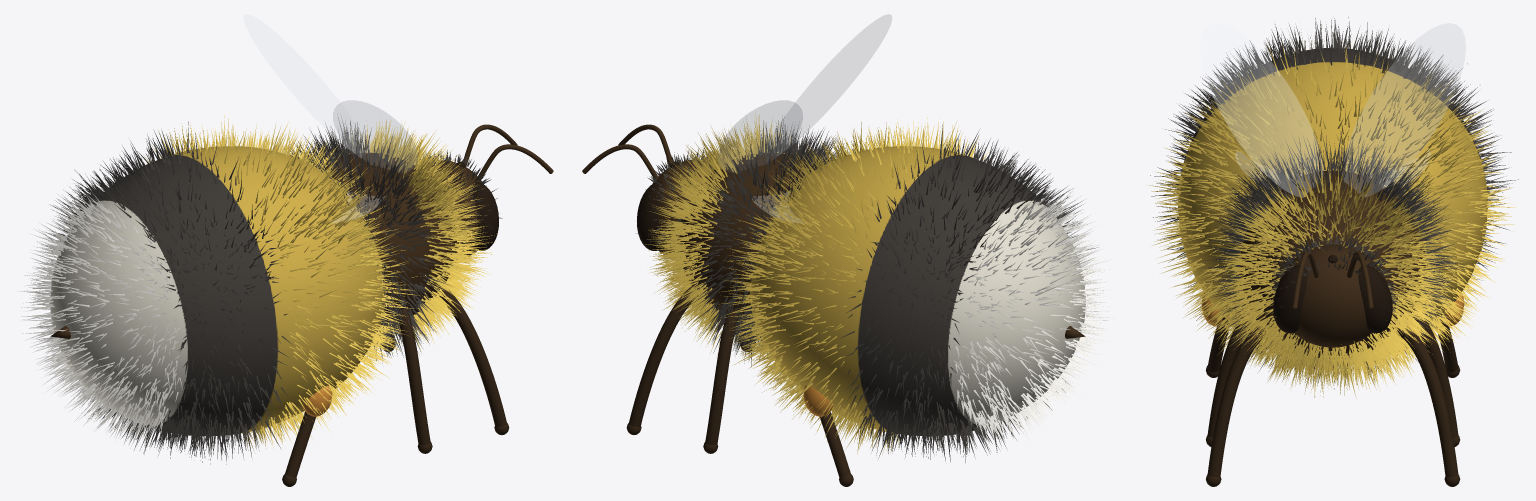
File: bee-hero-bombus.glb
The picture shows the model from 3 angles, left to right: view 1: azimuth 30°, elevation 25°; view 2: azimuth 150°, elevation 25°; view 3: azimuth 270°, elevation 25°; orthographic projection. The views are drawn at different scales.
Visible parts, largest first — view 1: abdomen, fuzz, thorax, foreWingL, foreWingR, foreLegR, midLegR, compoundEyeR, head, hindLegR, pollen_R; view 2: abdomen, fuzz, thorax, foreWingR, foreWingL, foreLegL, midLegL, head, compoundEyeL, hindLegL, pollen_L; view 3: fuzz, abdomen, foreWingL, foreWingR, thorax, head, foreLegL, foreLegR, compoundEyeL, compoundEyeR, midLegL, midLegR (+6 smaller).
Part boxes in pixels (x1,y1,x2,y2): abdomen: (50, 146, 385, 436); fuzz: (18, 115, 502, 464); thorax: (324, 152, 457, 325); foreWingL: (244, 14, 367, 156); foreWingR: (333, 100, 417, 172); foreLegR: (436, 287, 506, 427); midLegR: (396, 308, 430, 445); compoundEyeR: (472, 181, 498, 250); head: (426, 161, 481, 259); hindLegR: (285, 411, 315, 477); pollen_R: (302, 385, 332, 416); abdomen: (750, 146, 1085, 436); fuzz: (635, 113, 1114, 462); thorax: (678, 152, 816, 326); foreWingR: (772, 14, 891, 155); foreWingL: (718, 100, 802, 172); foreLegL: (629, 285, 698, 427); midLegL: (705, 309, 739, 445); head: (652, 161, 712, 254); compoundEyeL: (637, 181, 663, 250); hindLegL: (820, 412, 850, 477); pollen_L: (803, 385, 833, 416); fuzz: (1148, 17, 1518, 397); abdomen: (1178, 48, 1488, 359); foreWingL: (1344, 23, 1465, 196); foreWingR: (1200, 23, 1322, 197); thorax: (1240, 170, 1425, 358); head: (1279, 245, 1387, 347); foreLegL: (1395, 323, 1458, 477); foreLegR: (1207, 324, 1268, 477); compoundEyeL: (1358, 265, 1392, 333); compoundEyeR: (1273, 264, 1307, 333); midLegL: (1413, 310, 1458, 437); midLegR: (1207, 309, 1256, 437).
Bounding box in the file's own units: 1.36 × 0.9698 × 0.8507.
9 materials, 1 textured.
